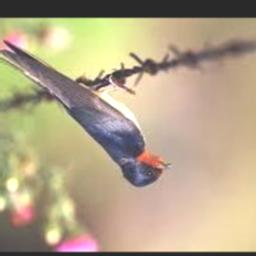Swallow: (0, 39, 172, 186)
